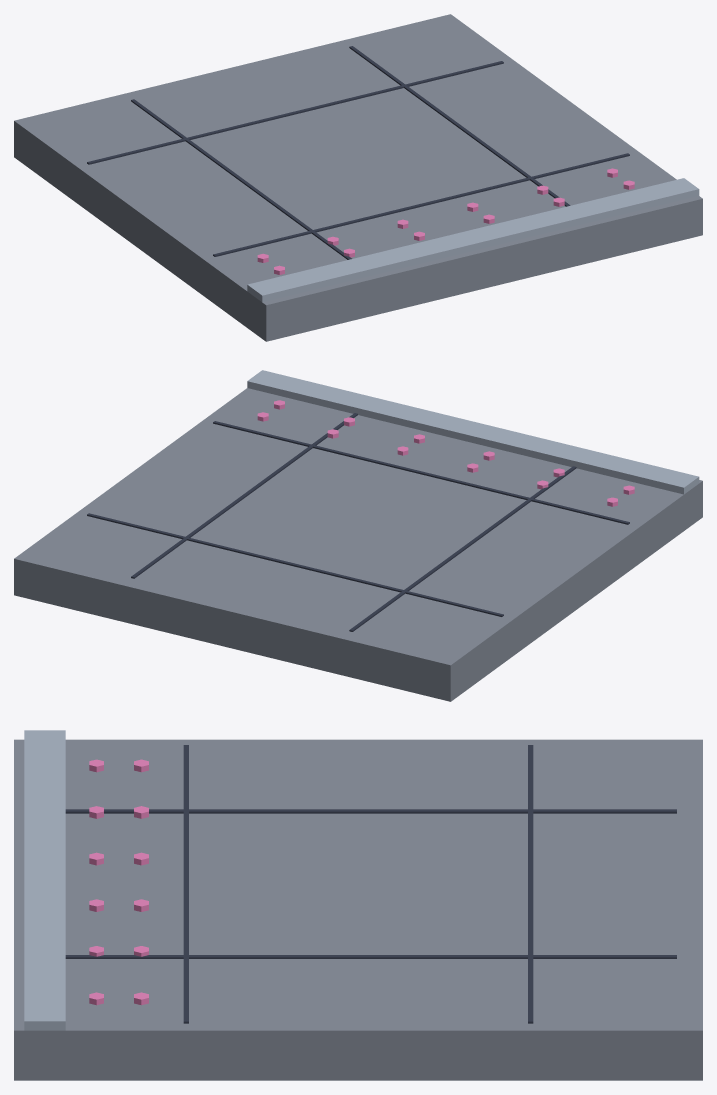
The model's file is neon-dispatch-raised-pavement-strip__170.glb.
3 renders of one model, top to bottom at view 1: azimuth 30°, elevation 25°; view 2: azimuth 150°, elevation 25°; view 3: azimuth 270°, elevation 25°, orthographic. The views are drawn at different scales.
Visible parts, largest first — view 1: paving, metal, dark, accent; view 2: paving, metal, dark, accent; view 3: paving, metal, dark, accent.
Boxes of the visible parts, box(x1,y1,x2,y2) form: paving: box(14, 14, 702, 341); metal: box(247, 178, 699, 302); dark: box(87, 46, 629, 259); accent: box(257, 168, 634, 274); paving: box(14, 388, 702, 701); metal: box(247, 370, 699, 494); dark: box(87, 413, 629, 631); accent: box(257, 400, 634, 506); paving: box(14, 739, 702, 1080); metal: box(24, 730, 65, 1030); dark: box(65, 745, 676, 1023); accent: box(89, 759, 148, 1005).
Size of the model in its own units: 2 by 0.19 by 2.
